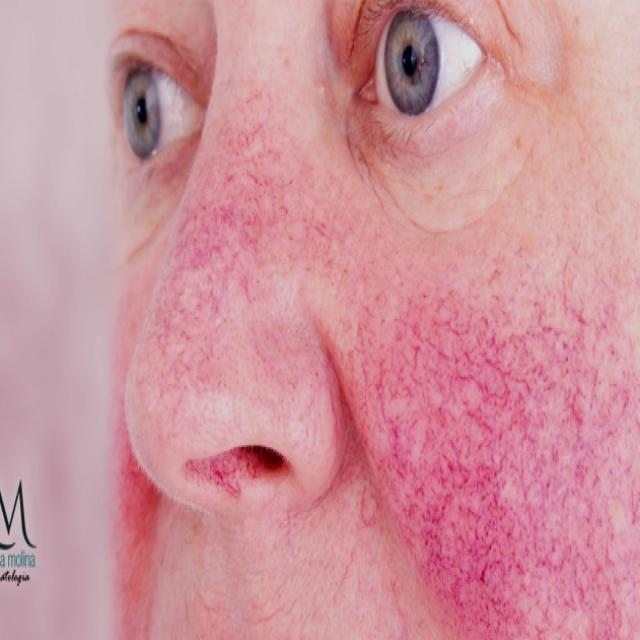Rosacea: (342, 254, 636, 640), (140, 80, 337, 375), (114, 405, 158, 610)
